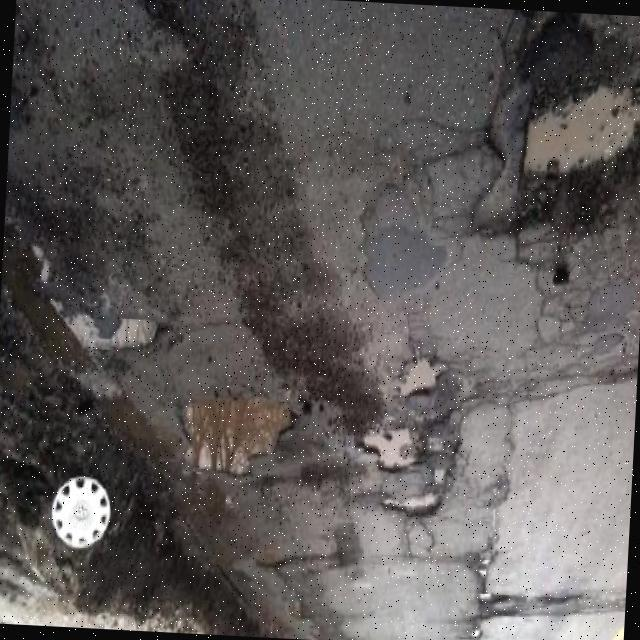Pothole: (475, 11, 640, 239), (175, 390, 298, 479), (477, 587, 586, 618), (357, 430, 411, 474), (401, 359, 442, 400), (382, 503, 440, 515)
